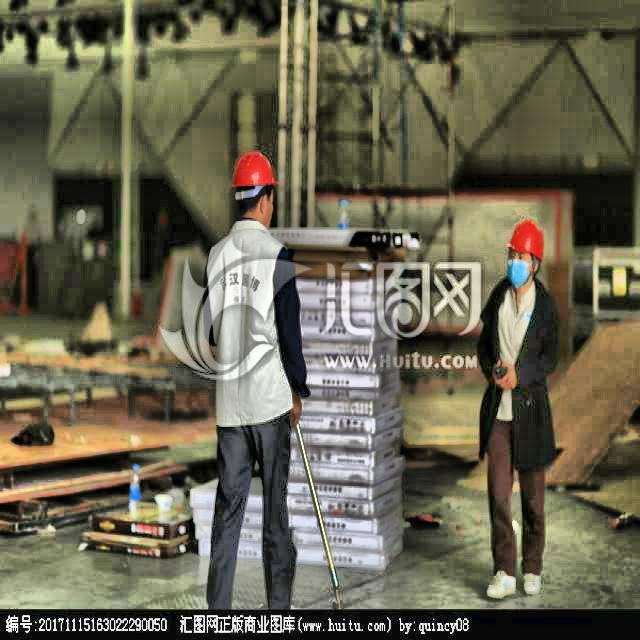person: (479, 221, 558, 604)
